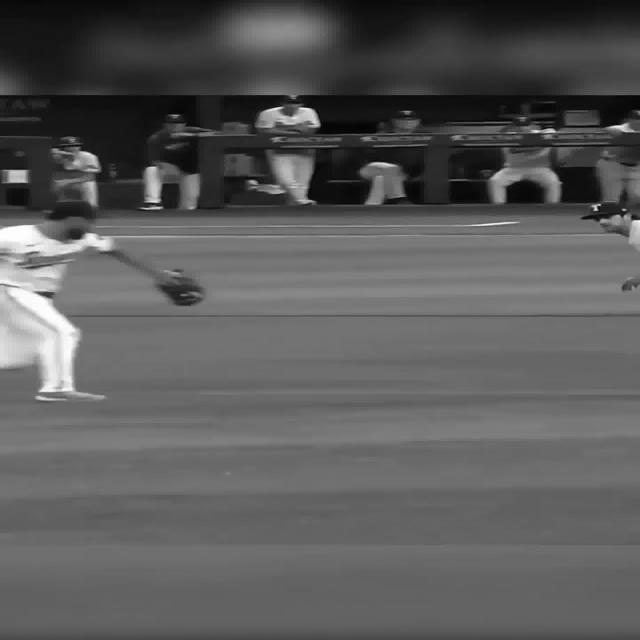baseball_glove: (155, 268, 205, 306)
shoe: (34, 390, 106, 401), (136, 202, 164, 210), (286, 199, 316, 206), (385, 197, 413, 204)
